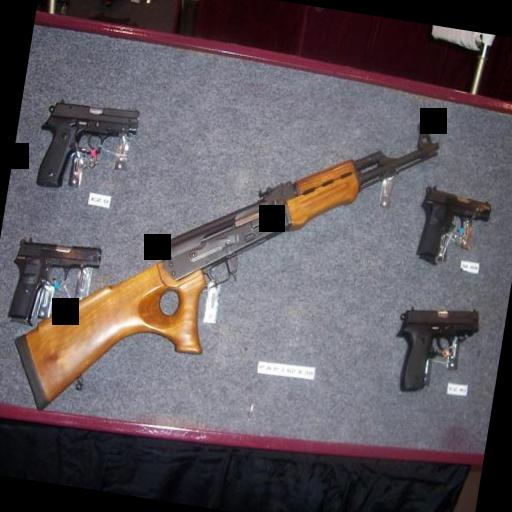Handgun: (27, 90, 143, 202), (0, 219, 104, 338), (386, 288, 483, 406), (410, 181, 493, 274)
